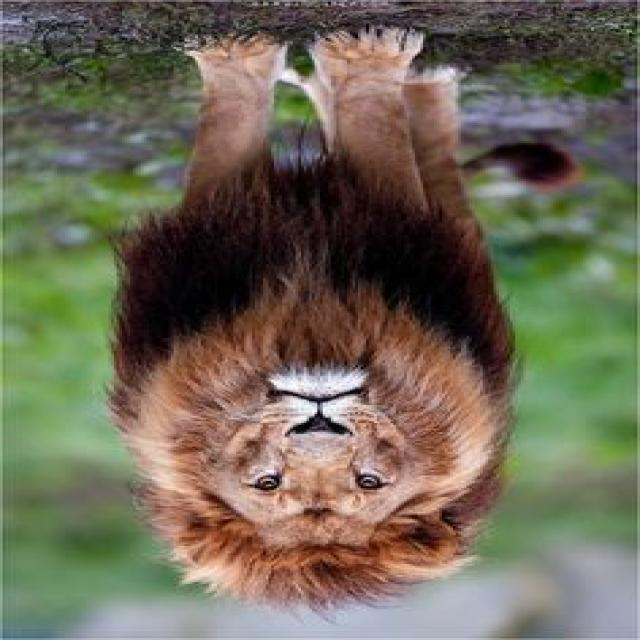lions: (12, 0, 640, 640)
